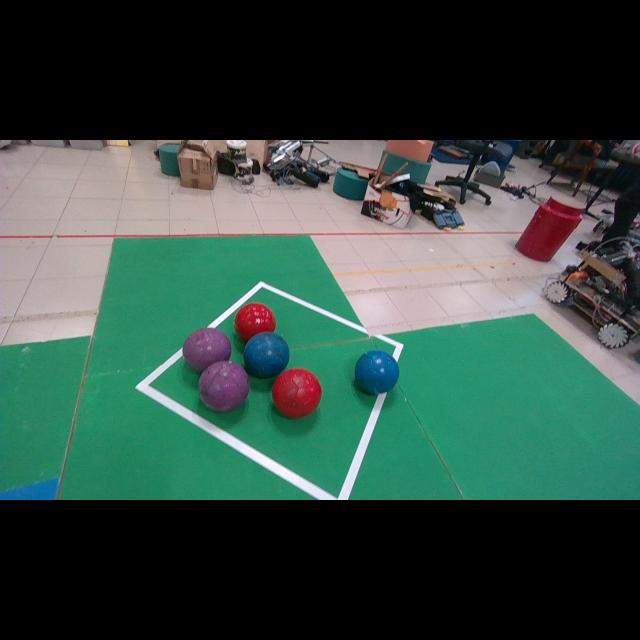B: (244, 331, 290, 378), (355, 350, 399, 395)
P: (198, 361, 250, 412), (182, 329, 231, 372)
R: (272, 368, 321, 418), (234, 302, 276, 341)
